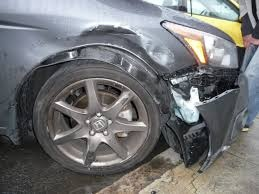Dent: (57, 23, 169, 84)
Smashed: (160, 49, 244, 171)
